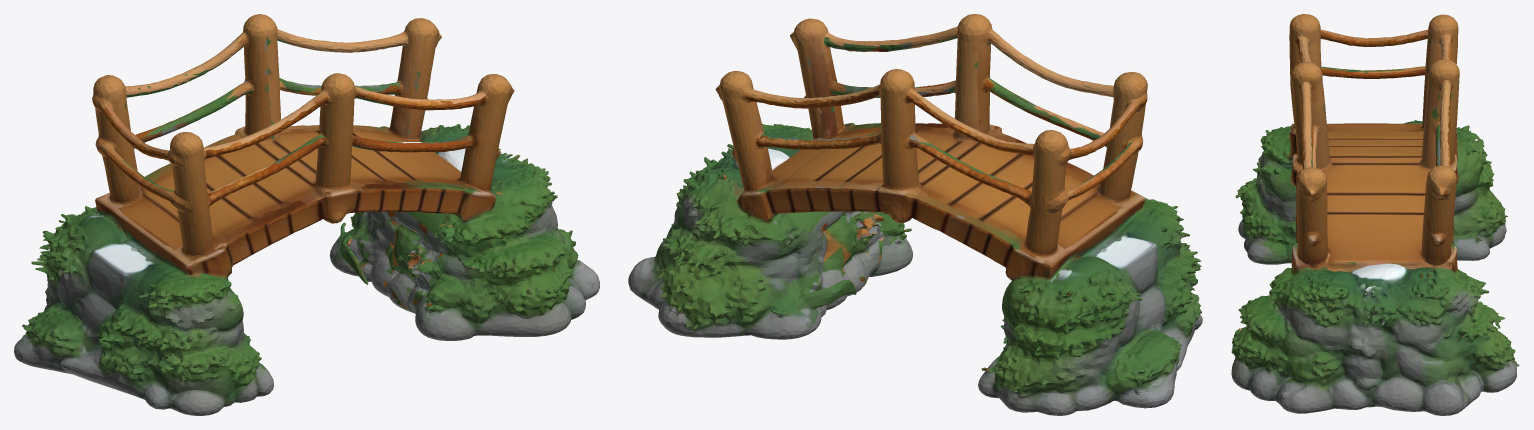
Rendered from bridge_wooden_country.glb.
3 renders of one model, left to right at view 1: azimuth 30°, elevation 25°; view 2: azimuth 150°, elevation 25°; view 3: azimuth 270°, elevation 25°, orthographic. The views are drawn at different scales.
Parts seen in each view (by area): view 1: tmpv_1b2pas.ply; view 2: tmpv_1b2pas.ply; view 3: tmpv_1b2pas.ply.
Part boxes in pixels (x1=…): tmpv_1b2pas.ply: x1=14, y1=14, x2=599, y2=415; tmpv_1b2pas.ply: x1=628, y1=14, x2=1202, y2=415; tmpv_1b2pas.ply: x1=1231, y1=14, x2=1519, y2=415.
Size of the model in its own units: 1.99 by 1.02 by 1.08.
Materials: 1 (1 with a texture image).
